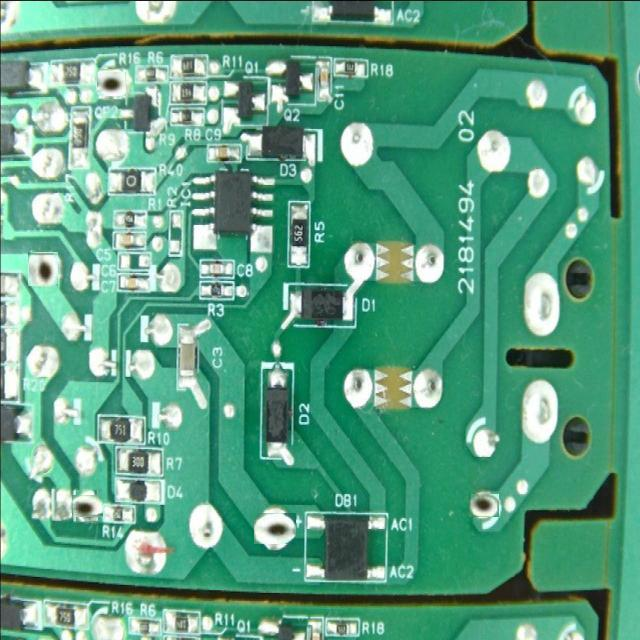damged: (257, 510, 294, 547), (28, 252, 58, 286), (73, 492, 101, 520), (98, 70, 124, 98), (470, 492, 498, 518)
